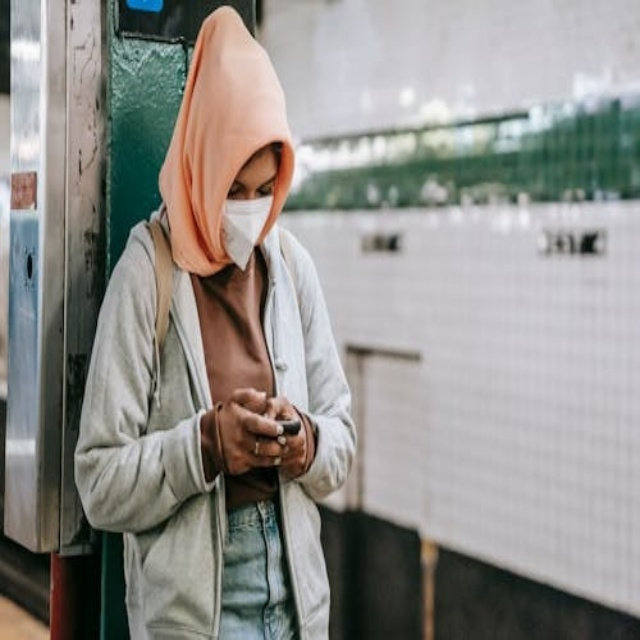Mascara: (219, 192, 274, 272)
Sin_gafas: (232, 173, 284, 202)
Sin_guantes: (215, 388, 295, 479)
